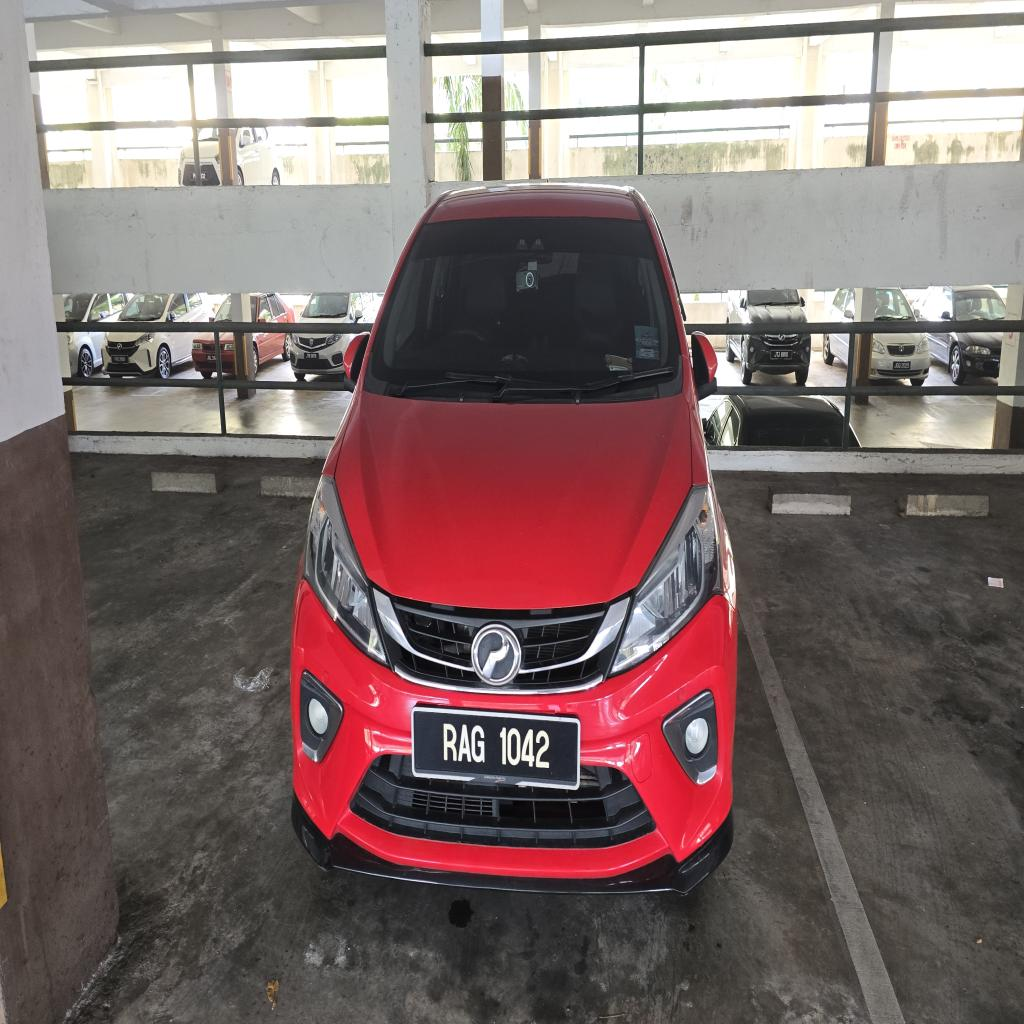car: (292, 185, 737, 892)
car plate: (412, 707, 580, 789)
